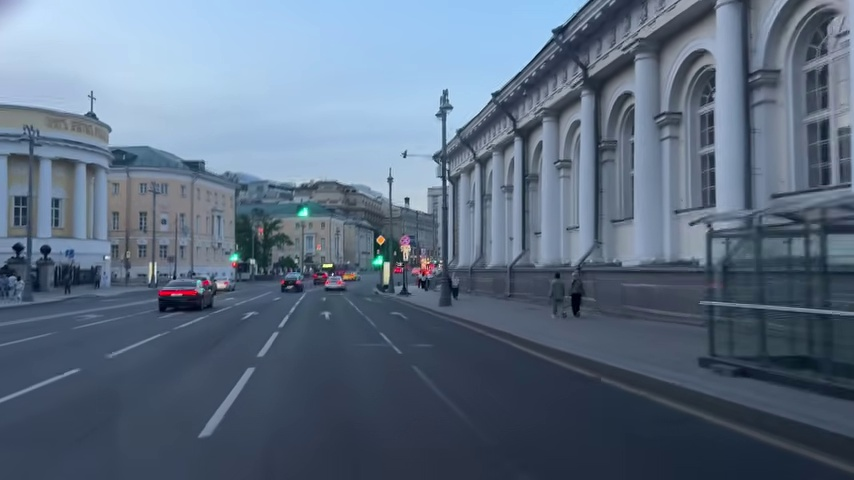apagada: (434, 99, 455, 121)
